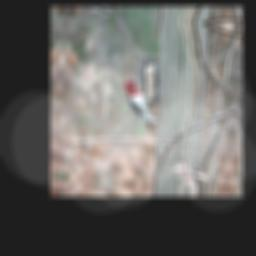Woodpecker: (117, 72, 165, 138)
